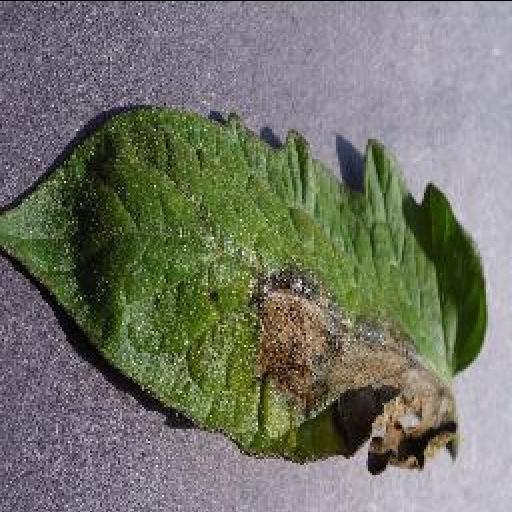disease_tomato: (0, 102, 488, 476)
